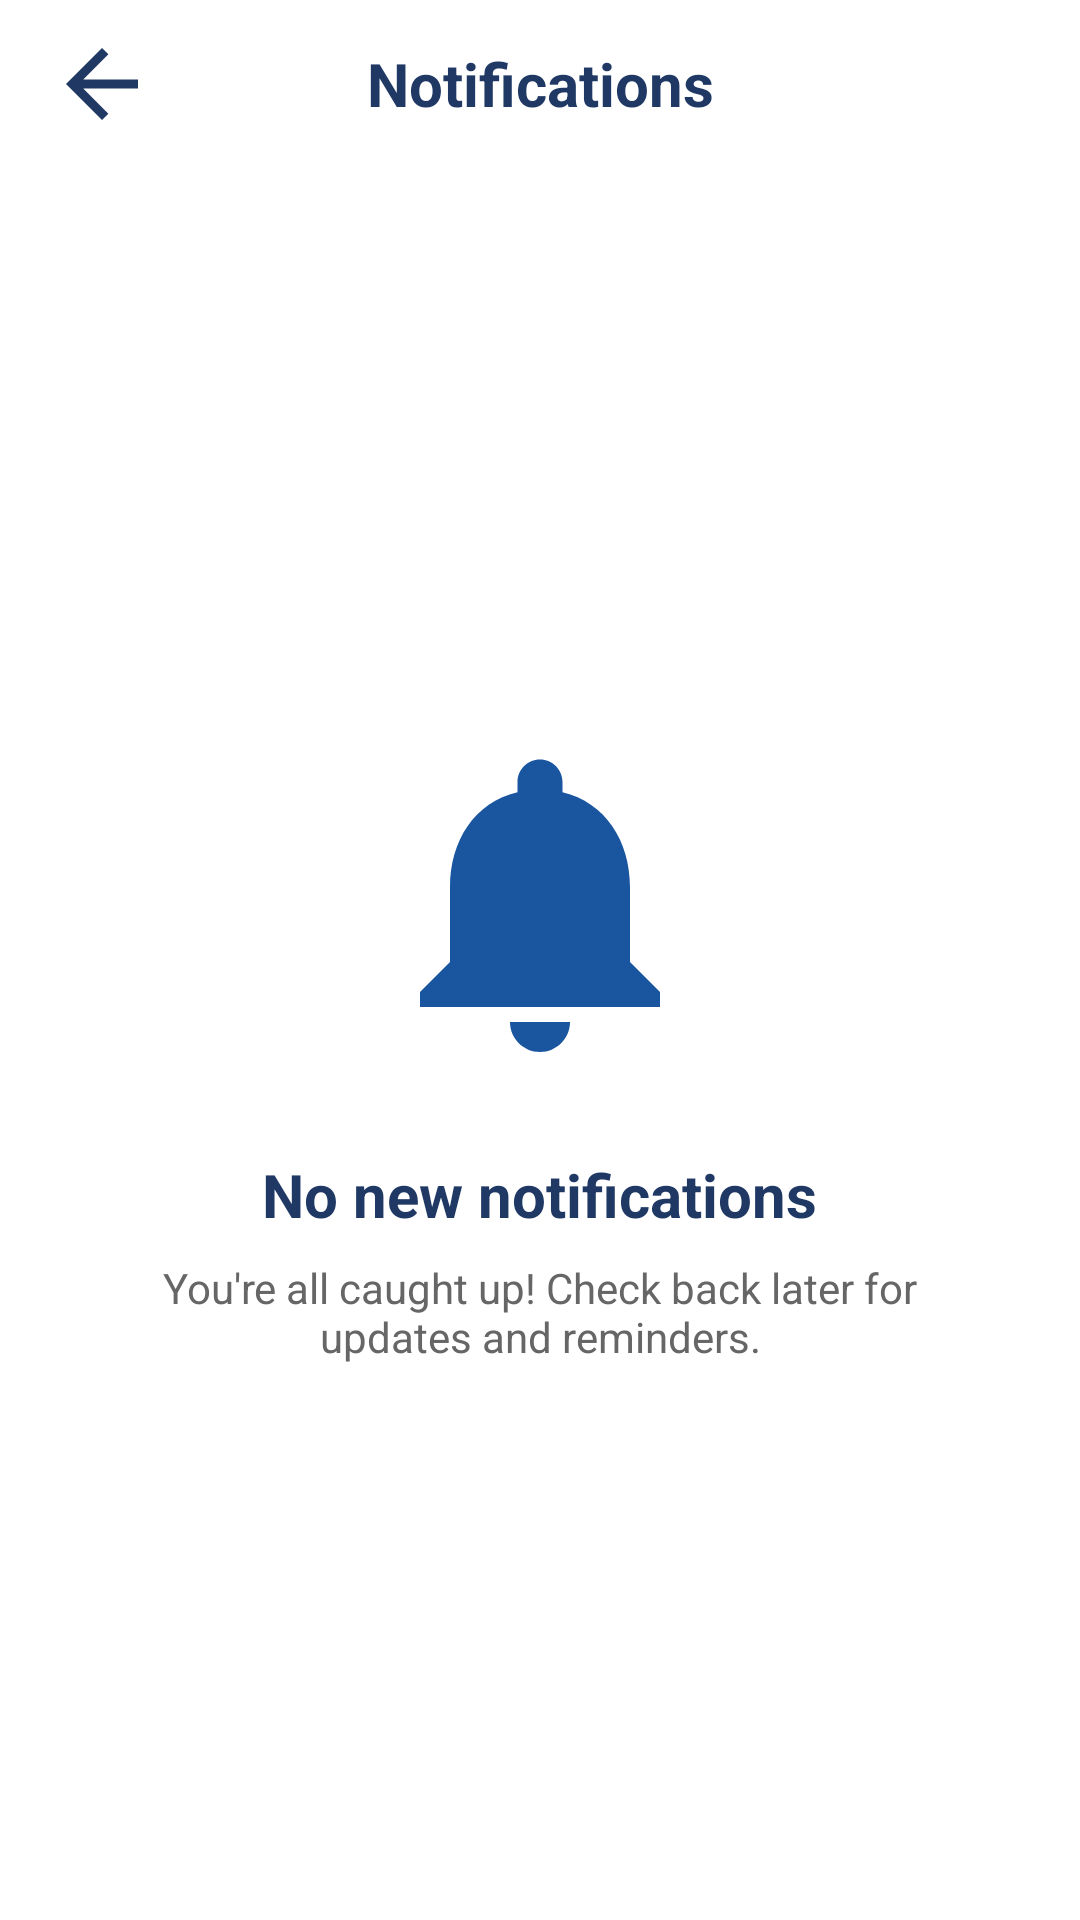

Where icons sit on this 1080px×1920px app screen, as (x1, y1, x2, y2):
back arrow: (66, 48, 138, 120)
bell: (420, 759, 660, 1052)
